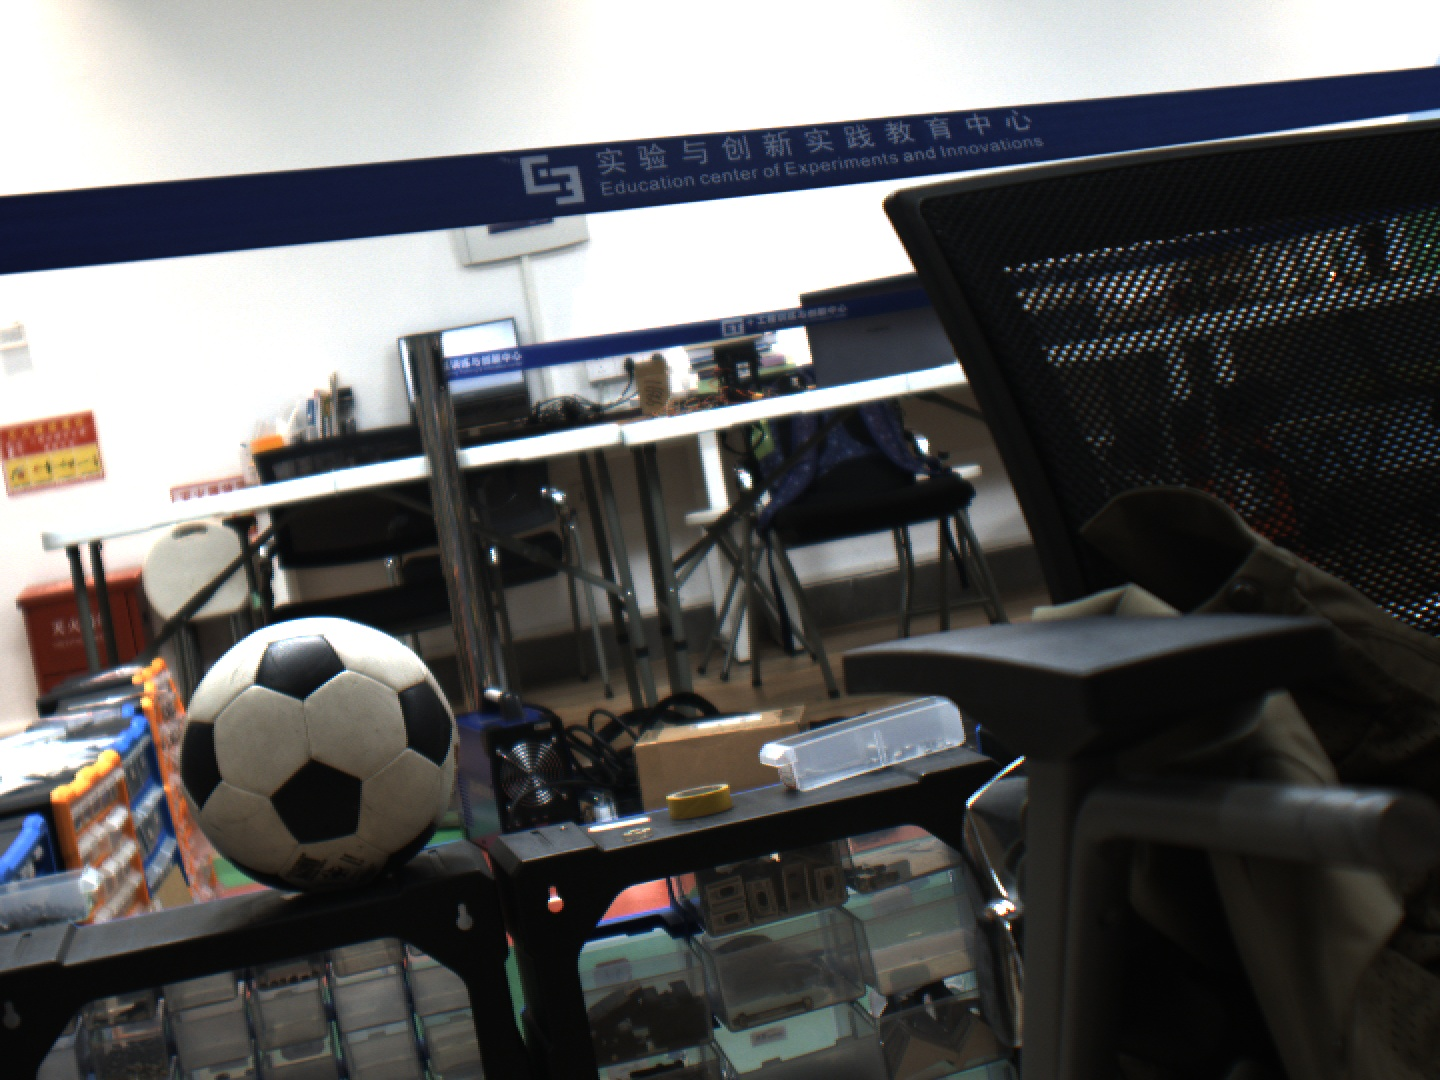ball: (137, 605, 477, 892)
